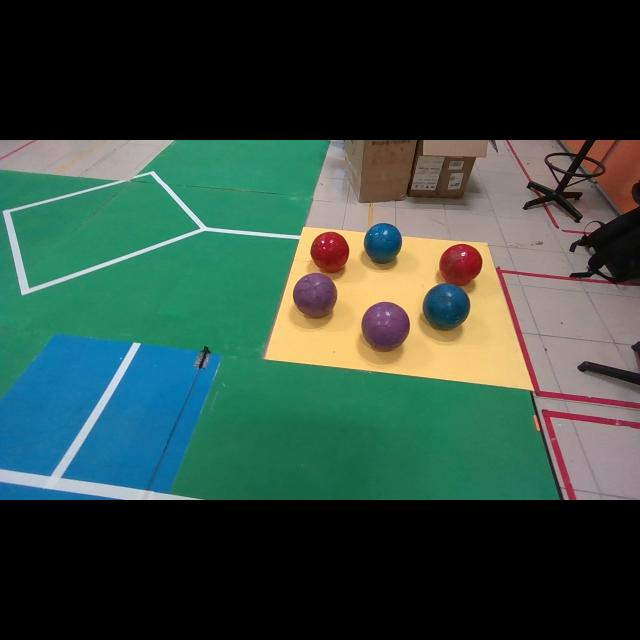B: (422, 282, 470, 330), (364, 222, 402, 263)
P: (361, 301, 410, 351), (292, 272, 338, 318)
R: (439, 244, 482, 285), (310, 231, 349, 272)
